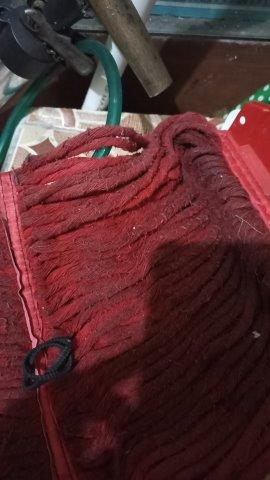karet: (23, 338, 73, 390)
